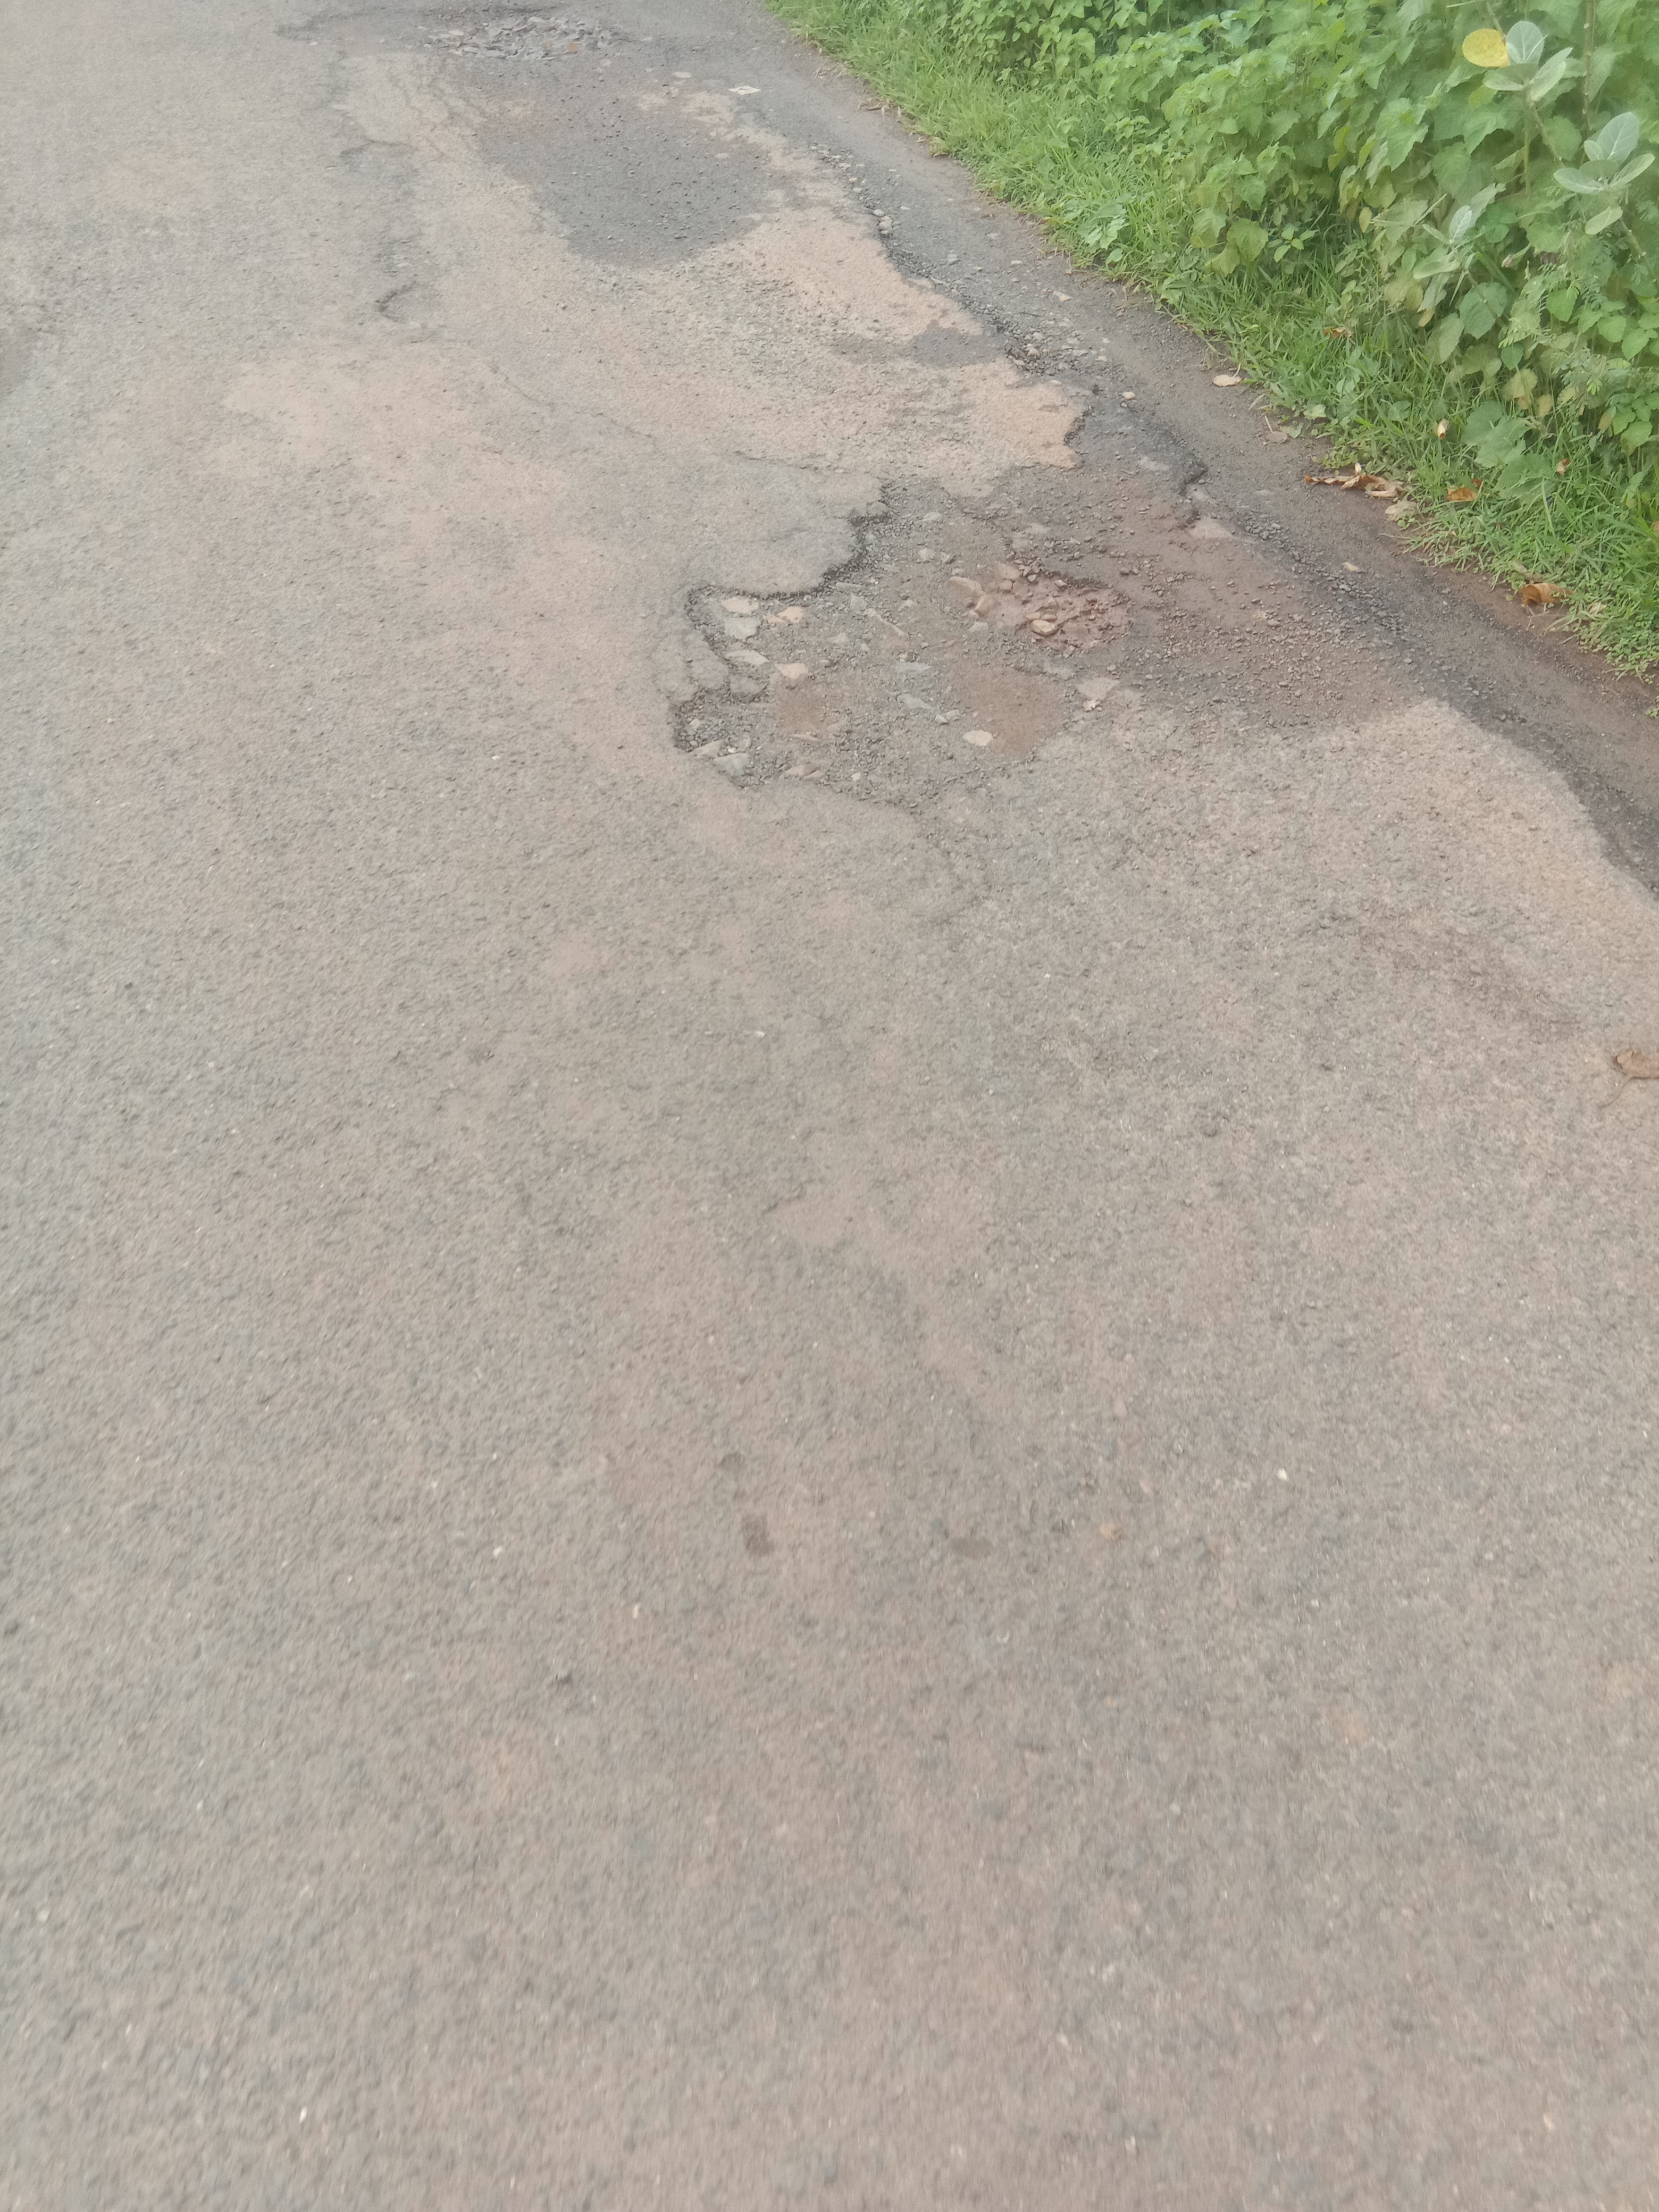potholes: (661, 384, 1462, 799), (257, 23, 807, 225)
